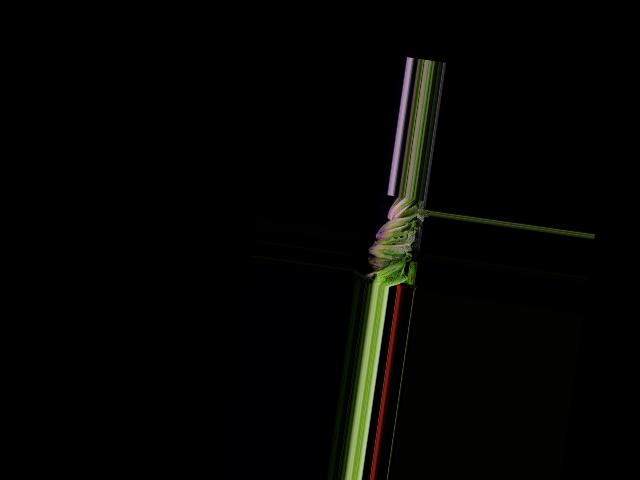lettuce: (385, 194, 417, 225)
